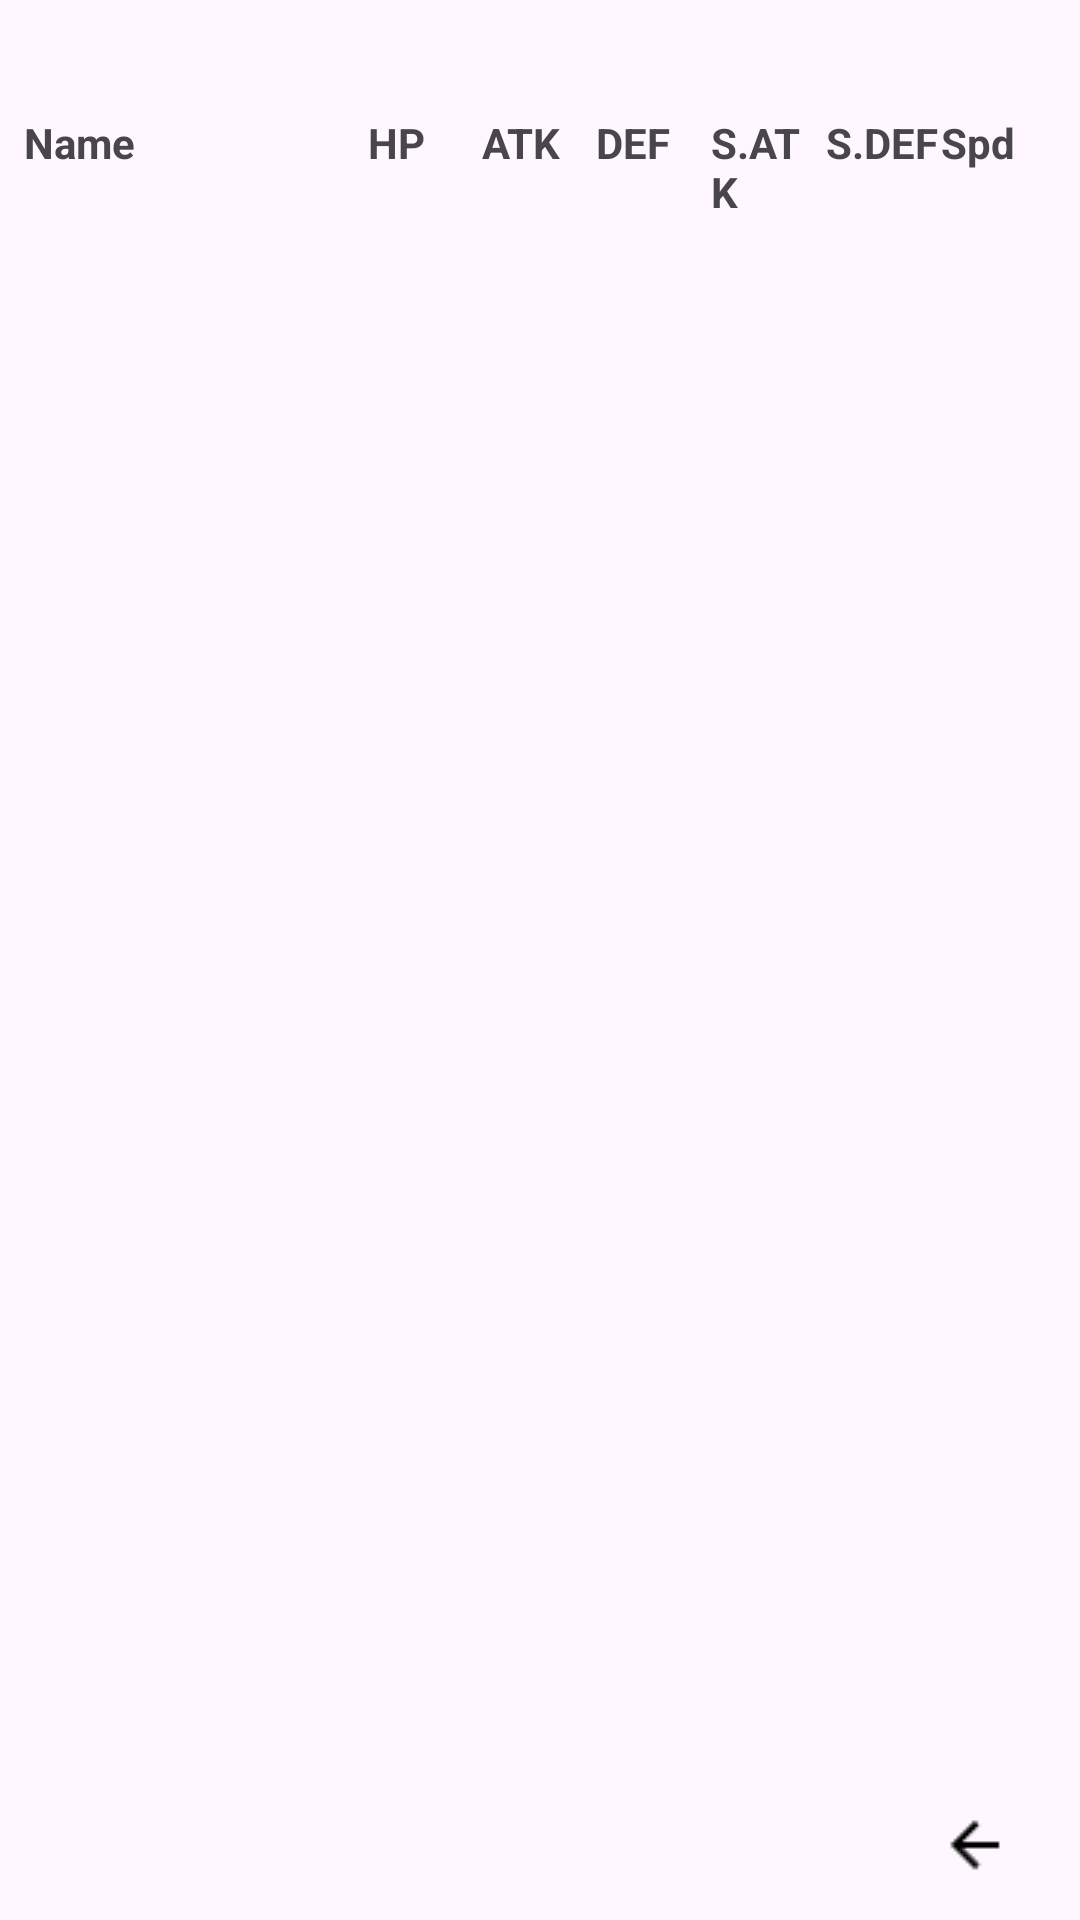

Icon bounding boxes for this 1080 x 1920 phone screenshot, format (x1, y1, x2, y2):
arrow back: (950, 1820, 1000, 1870)
